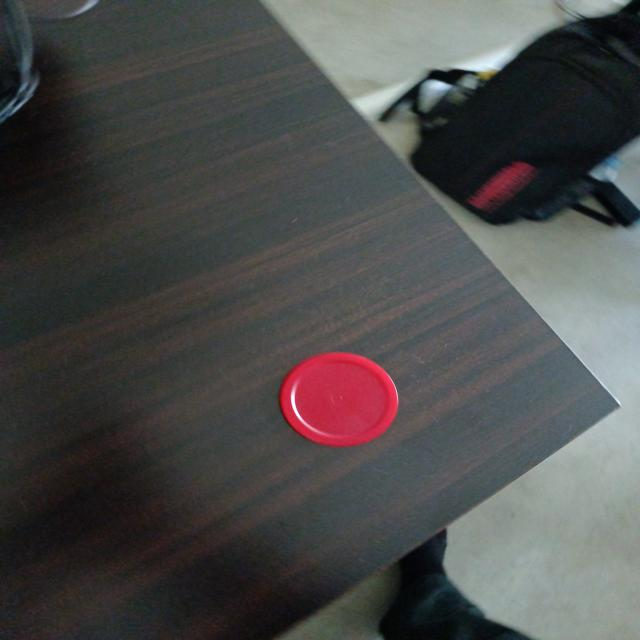chip: (275, 349, 405, 451)
